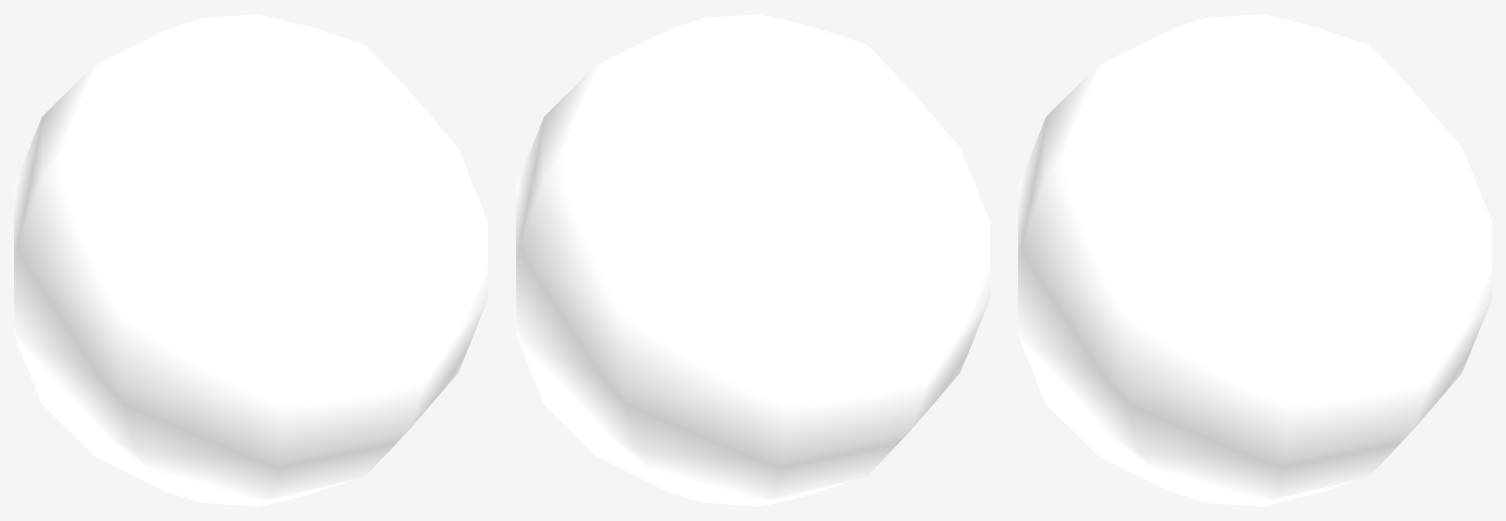
Rendered from 1ce62b32-8b80-4fa3-9513-e13a64c7bcdb.glb.
The picture shows the model from 3 angles, left to right: view 1: azimuth 30°, elevation 25°; view 2: azimuth 150°, elevation 25°; view 3: azimuth 270°, elevation 25°; orthographic projection.
Visible parts, largest first — view 1: IndicatorOrbWhite; view 2: IndicatorOrbWhite; view 3: IndicatorOrbWhite.
Part boxes in pixels (left/top/right/bottom): IndicatorOrbWhite: left=14, top=14, right=487, bottom=506; IndicatorOrbWhite: left=516, top=14, right=989, bottom=506; IndicatorOrbWhite: left=1018, top=14, right=1491, bottom=506.
Bounding box in the file's own units: 0.2425 × 0.25 × 0.2388.
1 material, 1 textured.
